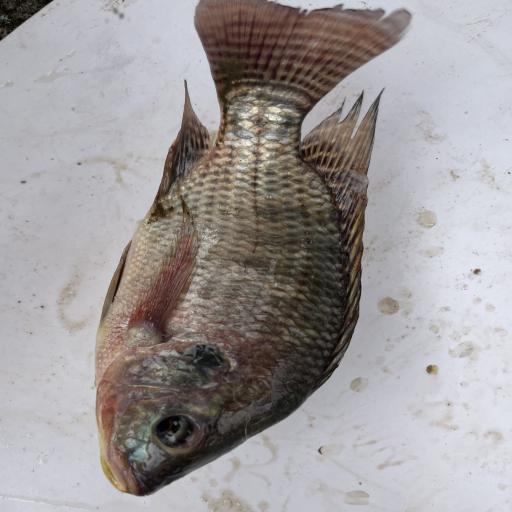Tilapia: (92, 0, 415, 497)
